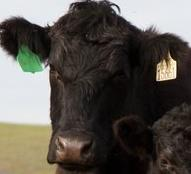muzzles: (44, 131, 98, 167)
